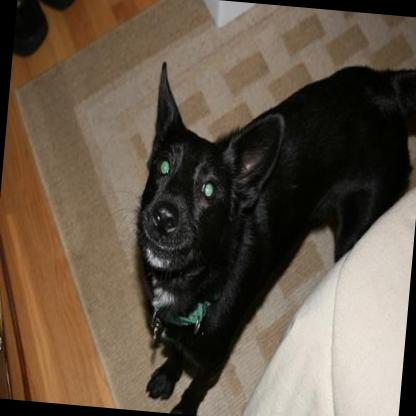kelpie: (84, 39, 416, 416)
